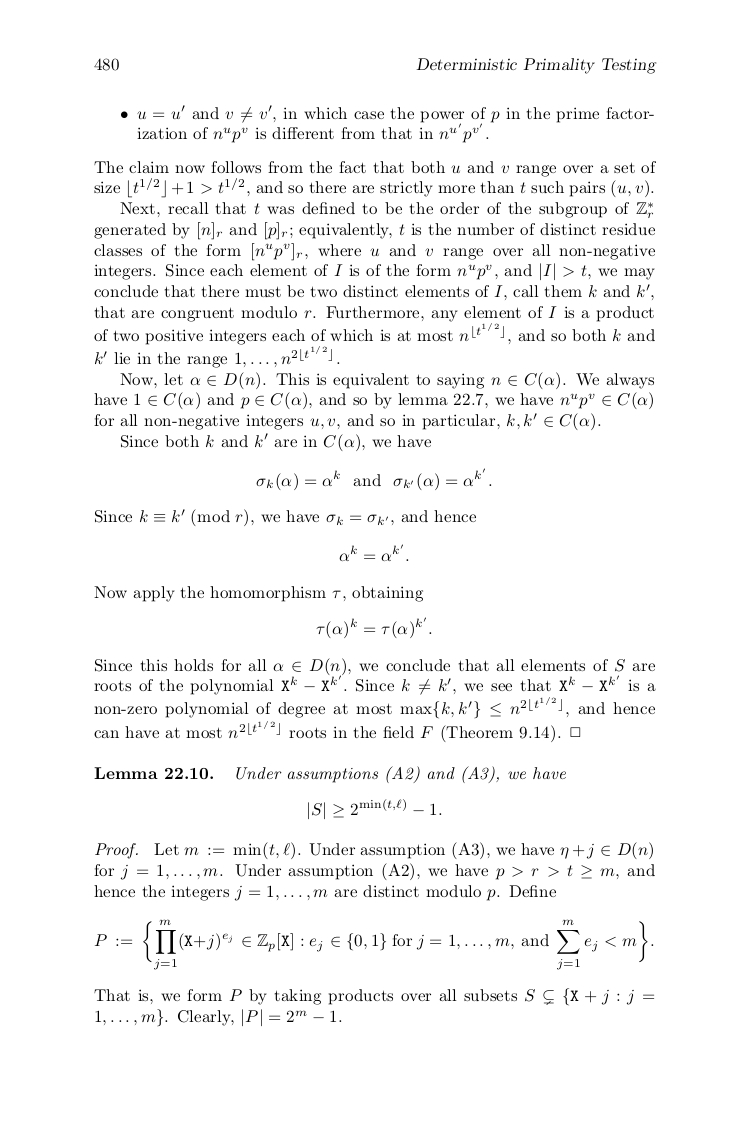formula: (94, 918, 653, 970), (256, 467, 491, 491), (308, 798, 441, 820), (316, 616, 431, 639), (339, 543, 408, 562)
